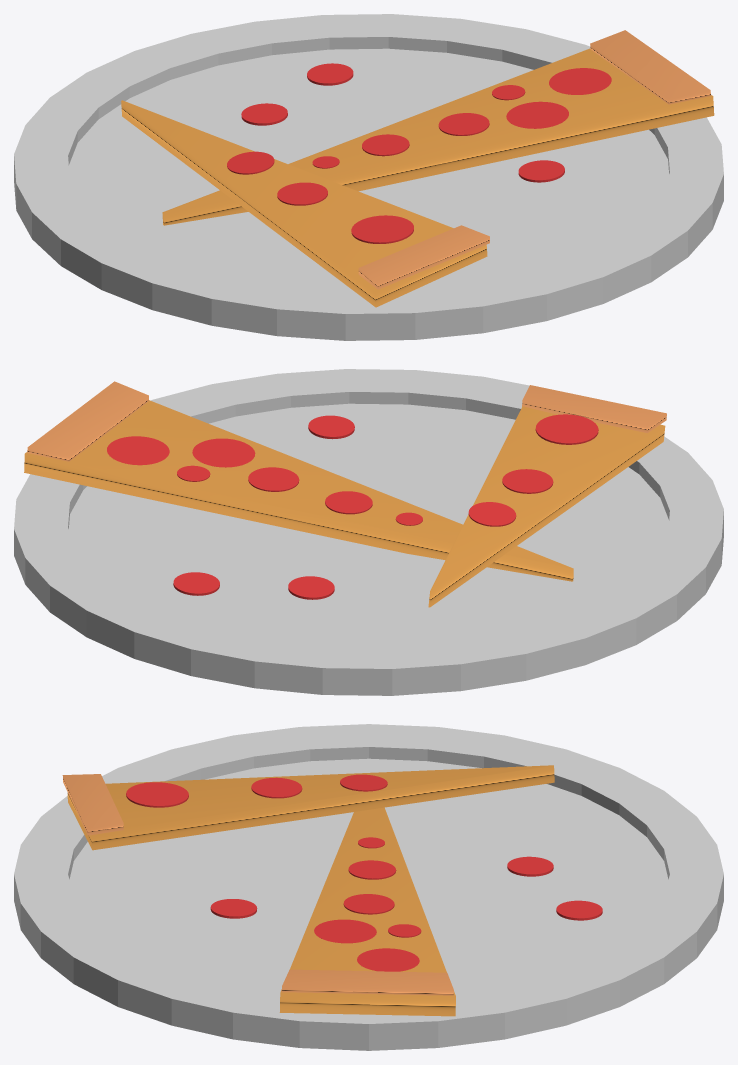
File: food.glb
3 renders of one model, top to bottom at view 1: azimuth 30°, elevation 25°; view 2: azimuth 150°, elevation 25°; view 3: azimuth 270°, elevation 25°, orthographic.
Visible parts, largest first — view 1: Cylinder, Cube, Cube.002, Cube.001, Cube.003, Cylinder.007, Cylinder.002, Cylinder.001, Cylinder.012, Cylinder.006, Cylinder.009, Cylinder.008 (+3 smaller); view 2: Cylinder, Cube, Cube.002, Cube.001, Cube.003, Cylinder.007, Cylinder.002, Cylinder.001, Cylinder.012, Cylinder.006, Cylinder.009, Cylinder.003 (+3 smaller); view 3: Cylinder, Cube.002, Cube, Cube.001, Cube.003, Cylinder.007, Cylinder.002, Cylinder.001, Cylinder.012, Cylinder.006, Cylinder.011, Cylinder.008 (+3 smaller).
Boxes of the visible parts, x1,y1,x2,y2 form: Cylinder: (14,14,723,340); Cube: (162,48,714,225); Cube.002: (121,100,487,307); Cube.001: (590,30,710,104); Cube.003: (358,225,489,289); Cylinder.007: (351,215,413,243); Cylinder.002: (506,101,568,128); Cylinder.001: (549,68,611,94); Cylinder.012: (277,182,327,205); Cylinder.006: (438,113,489,135); Cylinder.009: (227,151,274,174); Cylinder.008: (241,103,287,125); Cylinder: (14,369,723,695); Cube: (24,400,573,581); Cube.002: (428,406,665,607); Cube.001: (27,381,148,461); Cube.003: (522,385,666,433); Cylinder.007: (535,414,598,444); Cylinder.002: (192,438,255,467); Cylinder.001: (107,436,169,465); Cylinder.012: (502,469,553,493); Cylinder.006: (248,467,299,491); Cylinder.009: (468,502,516,526); Cylinder.003: (325,491,372,514); Cylinder: (14,724,723,1050); Cube.002: (67,765,554,850); Cube: (279,807,455,1016); Cube.001: (281,969,453,995); Cube.003: (62,774,123,835); Cylinder.007: (126,782,188,807); Cylinder.002: (314,919,376,943); Cylinder.001: (357,948,419,971); Cylinder.012: (251,777,302,798); Cylinder.006: (343,894,394,914); Cylinder.011: (556,900,602,920); Cylinder.008: (507,856,553,876).
Bounding box in the file's own units: 2 × 0.1968 × 2.
